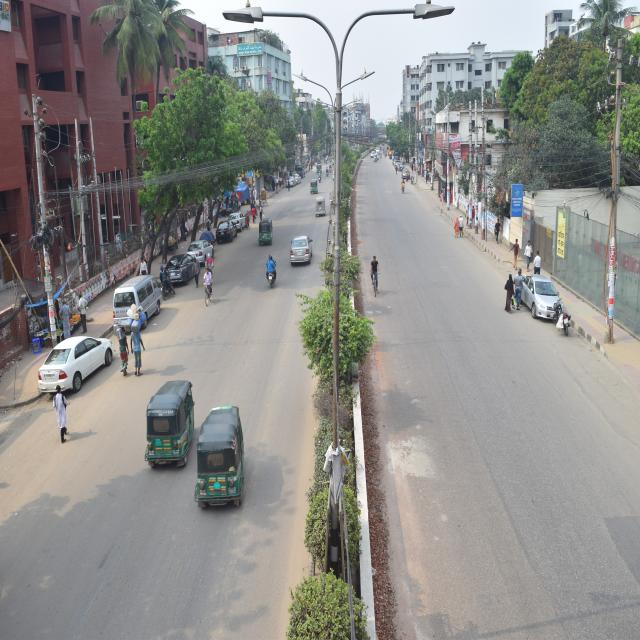car: (36, 333, 120, 387), (520, 259, 560, 324), (160, 257, 194, 293), (190, 227, 216, 271), (214, 219, 237, 245), (294, 233, 320, 254), (229, 202, 246, 232), (290, 172, 296, 183)
microbus: (104, 276, 164, 348)
motorbike: (548, 291, 574, 344), (265, 256, 279, 313)
